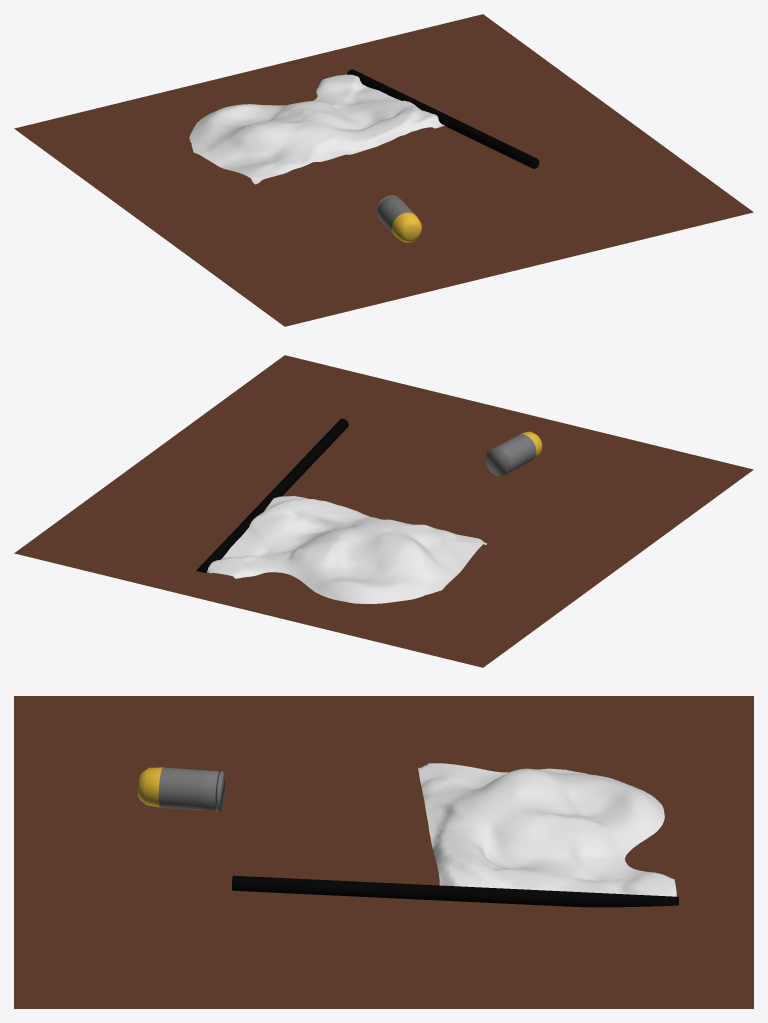
File: page4.glb
The picture shows the model from 3 angles, top to bottom: view 1: azimuth 30°, elevation 25°; view 2: azimuth 150°, elevation 25°; view 3: azimuth 270°, elevation 25°; orthographic projection. The views are drawn at different scales.
Parts seen in each view (by area): view 1: Plane.001, Plane, Cylinder.001, Cylinder; view 2: Plane.001, Plane, Cylinder.001, Cylinder; view 3: Plane.001, Plane, Cylinder.001, Cylinder.
Part boxes in pixels (<box>): Plane.001: <box>14,14,753,326</box>; Plane: <box>189,74,444,184</box>; Cylinder.001: <box>347,69,539,168</box>; Cylinder: <box>376,195,422,242</box>; Plane.001: <box>14,355,753,667</box>; Plane: <box>207,496,486,603</box>; Cylinder.001: <box>196,418,348,572</box>; Cylinder: <box>485,431,542,476</box>; Plane.001: <box>14,696,753,1008</box>; Plane: <box>417,763,676,896</box>; Cylinder.001: <box>232,875,678,907</box>; Cylinder: <box>137,767,224,811</box>.
Bounding box in the file's own units: 6.24 × 0.5117 × 6.24.
